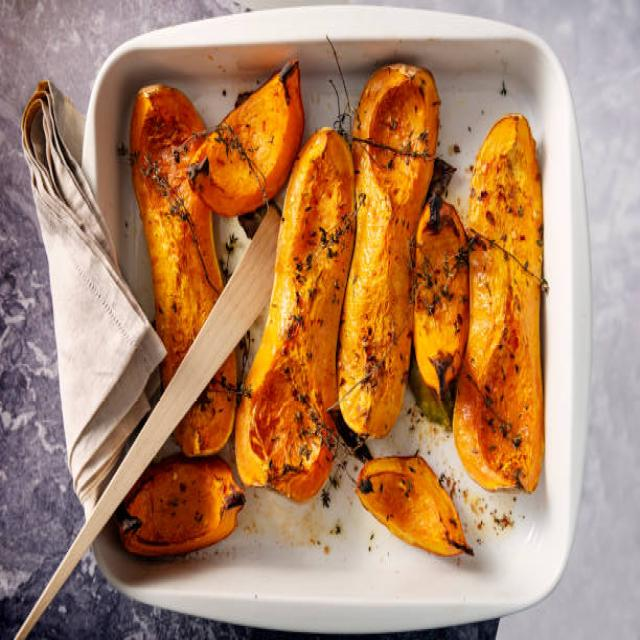pumpkin: (124, 54, 547, 550)
